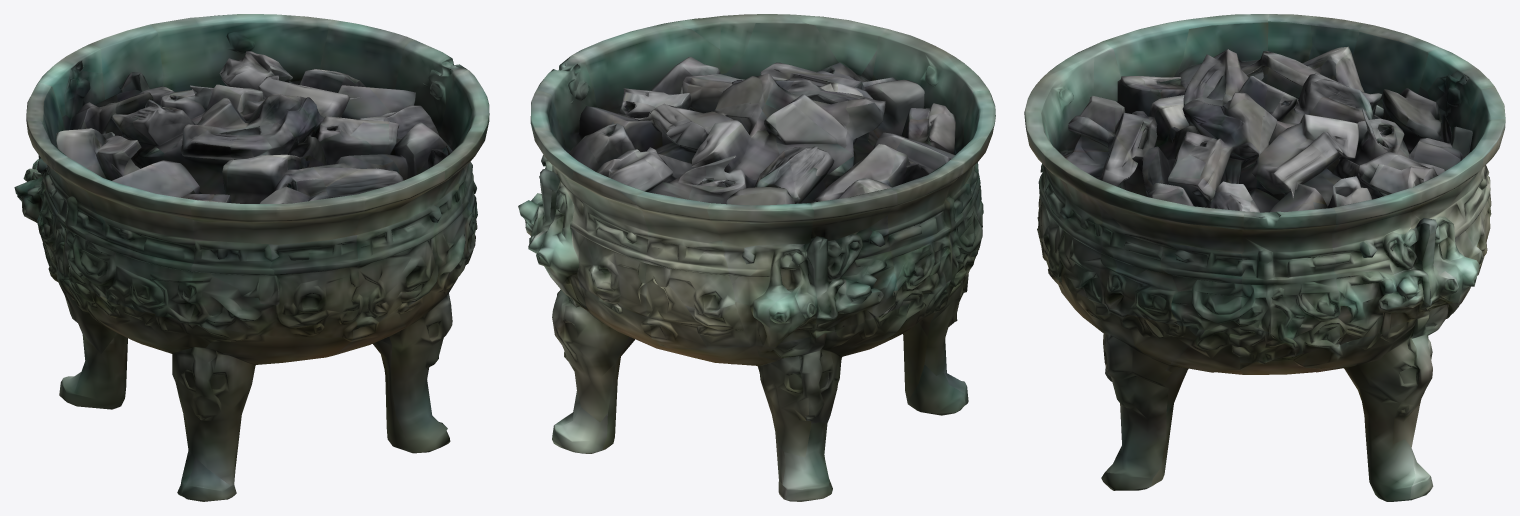
File: brazier-low.glb
3 renders of one model, left to right at view 1: azimuth 30°, elevation 25°; view 2: azimuth 150°, elevation 25°; view 3: azimuth 270°, elevation 25°, orthographic. The views are drawn at different scales.
Size of the model in its own units: 0.9982 by 0.7905 by 0.9978.
1 material, 1 textured.
